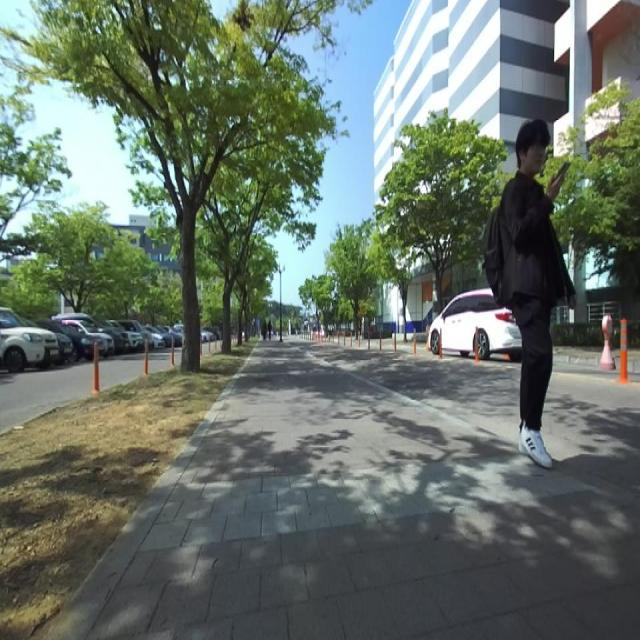sidewalk: (38, 340, 640, 640)
